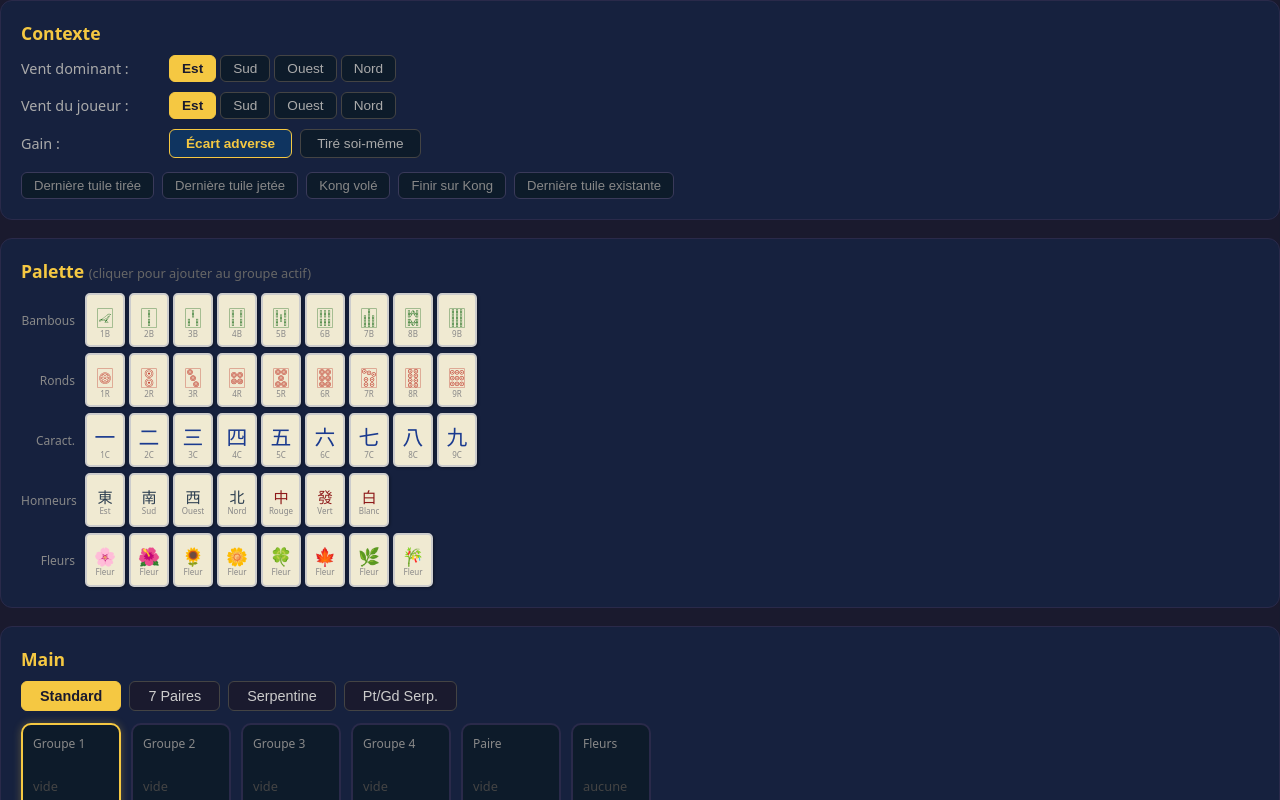
Scenario: CalculatorTab — ajout et suppression de tuiles › la tuile gagnante est marquée (classe "winning")
Click the element titled "5C". click: (281, 440)
box: [261,413,301,467]
(page scrolled)
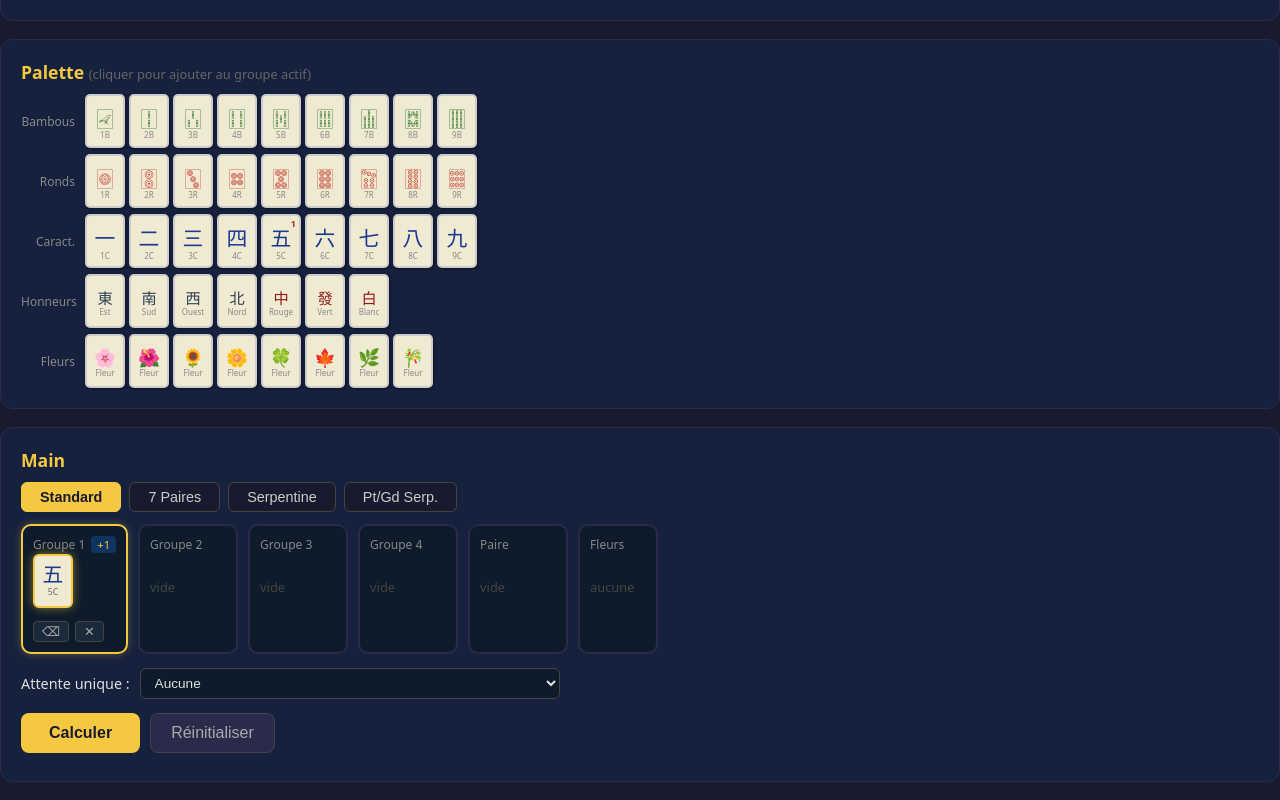
Result: the element with class "winning" is shown at [33,554,73,608]
